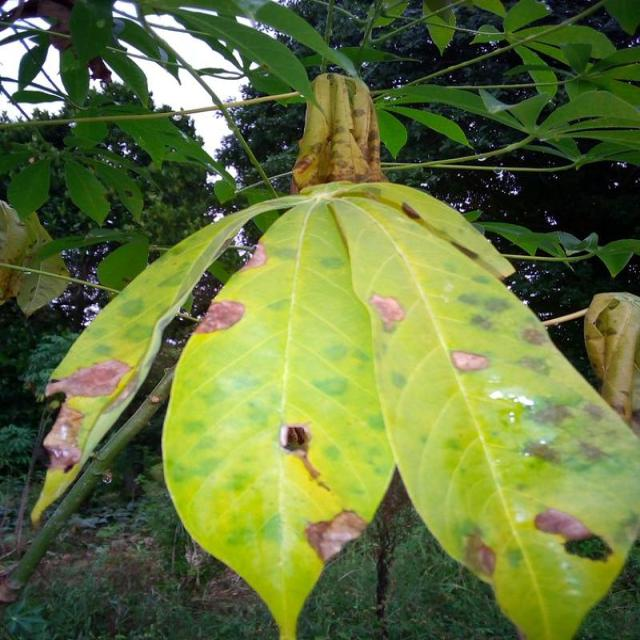cassava leaf: (325, 179, 638, 638), (160, 189, 398, 638)
